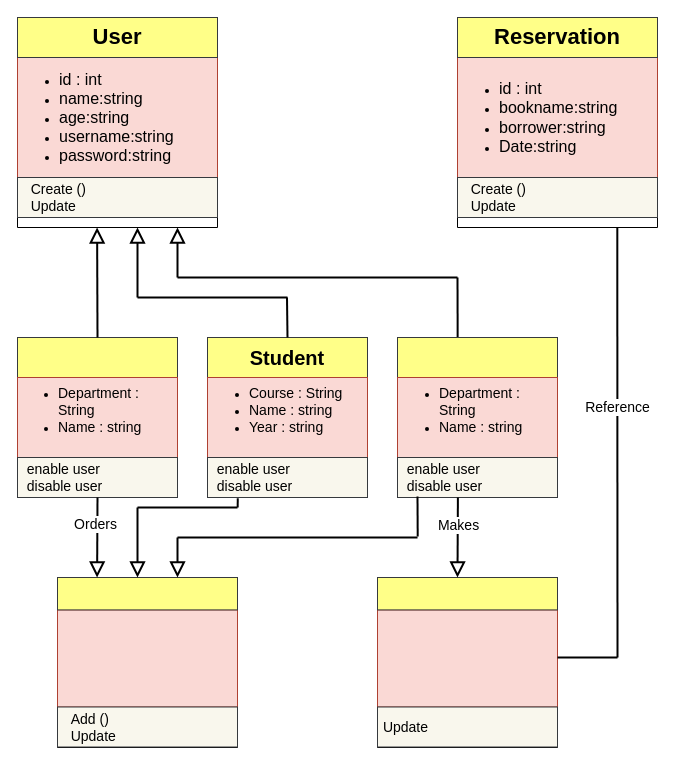
This 675x765 diagram has some shape labels left out. Here are the shapes that lost their labels. From the top down, the centre of each, then its label:
At [97,357]: "Staff".
At [477,357]: "Member".
At [147,593]: "Book".
At [467,593]: "Loan".
At [147,658]: "id : int title:string detail:string publisher:string".
At [467,658]: "id : int date:string detail:string".
